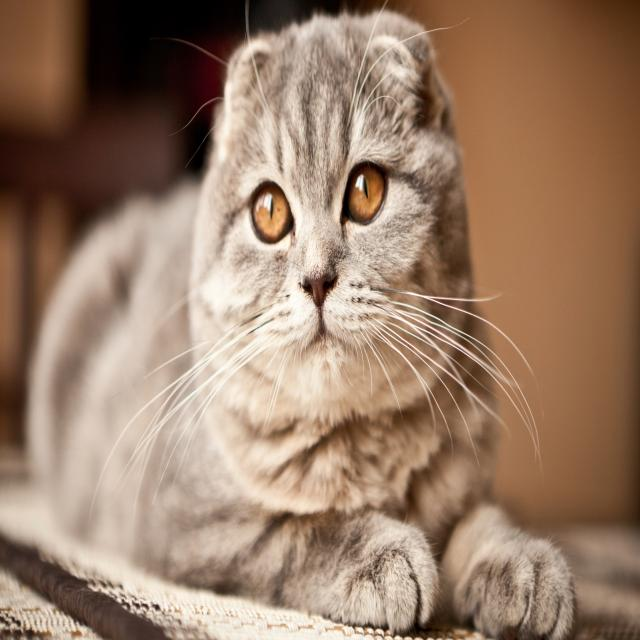Scottish Fold: (22, 2, 578, 640)
